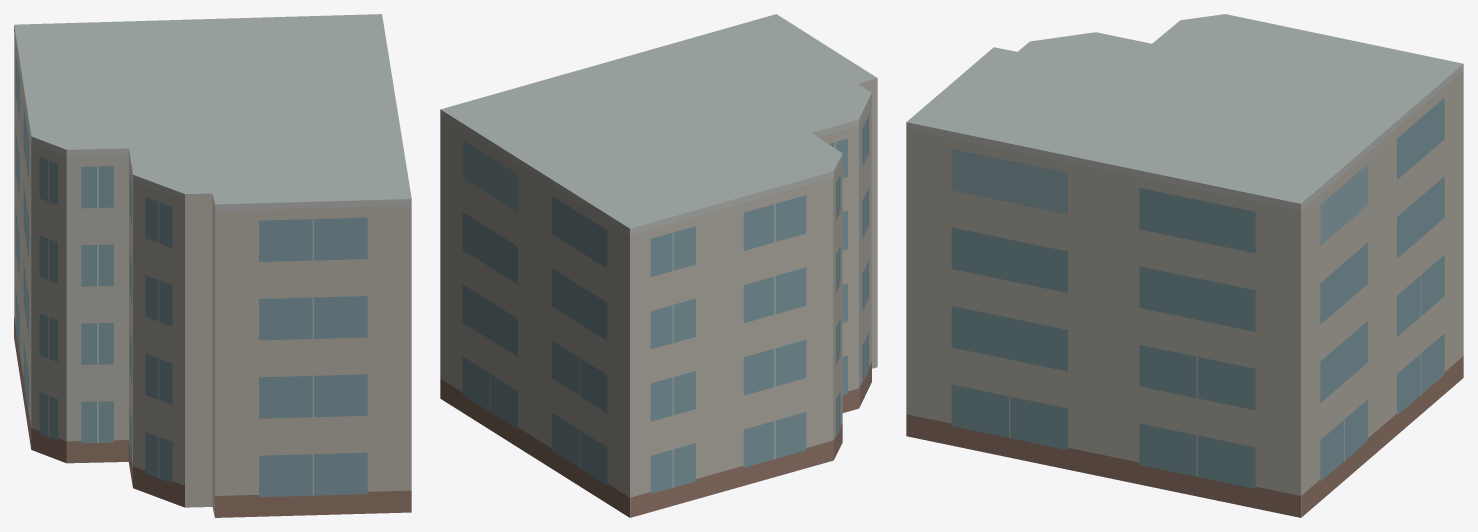
The model's file is survey-upis-33037847.glb.
The picture shows the model from 3 angles, left to right: view 1: azimuth 30°, elevation 25°; view 2: azimuth 150°, elevation 25°; view 3: azimuth 270°, elevation 25°; orthographic projection. The views are drawn at different scales.
Parts seen in each view (by area): view 1: survey-upis-33037847.tmp; view 2: survey-upis-33037847.tmp; view 3: survey-upis-33037847.tmp.
Boxes of the visible parts, box(x1,y1,x2,y2) form: survey-upis-33037847.tmp: box(14, 14, 411, 517); survey-upis-33037847.tmp: box(440, 14, 877, 517); survey-upis-33037847.tmp: box(906, 14, 1463, 517).
Bounding box in the file's own units: 14.78 × 11.39 × 18.33.
